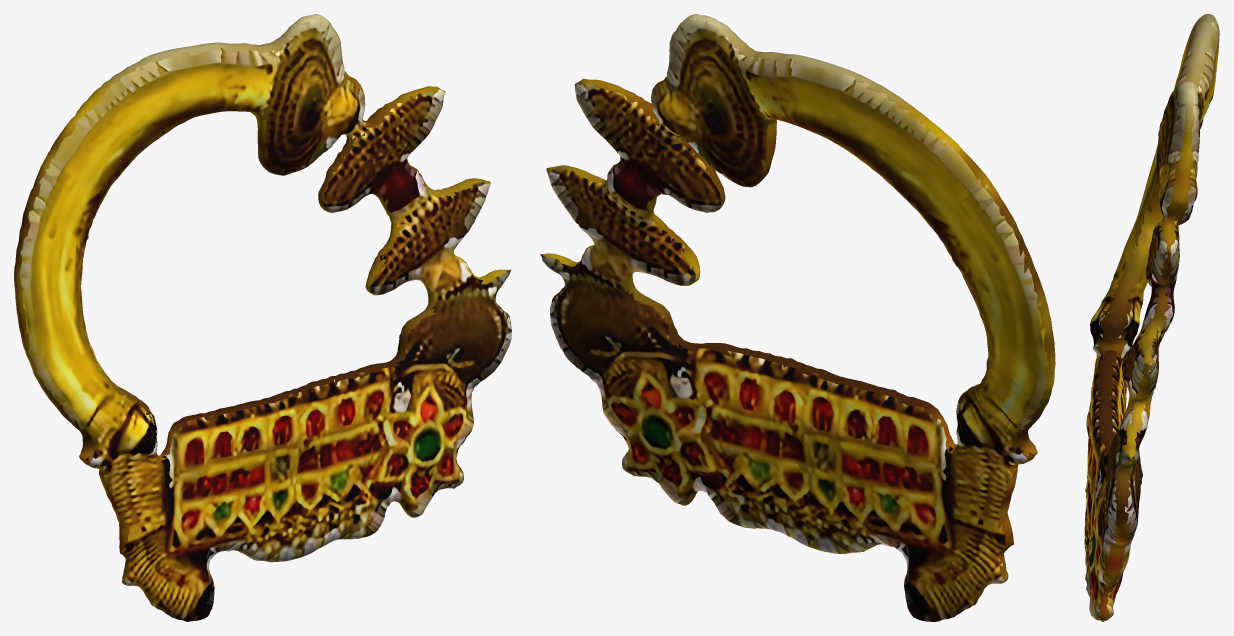
File: kfl-2282.glb
3 renders of one model, left to right at view 1: azimuth 30°, elevation 25°; view 2: azimuth 150°, elevation 25°; view 3: azimuth 270°, elevation 25°, orthographic. The views are drawn at different scales.
Parts seen in each view (by area): view 1: kfl-2282; view 2: kfl-2282; view 3: kfl-2282.
Boxes of the visible parts, bbox=[...] form: kfl-2282: bbox=[14, 14, 511, 621]; kfl-2282: bbox=[540, 14, 1055, 621]; kfl-2282: bbox=[1084, 14, 1219, 621].
Size of the model in its own units: 0.9173 by 0.9865 by 0.2182.
Materials: 4 (4 with a texture image).
